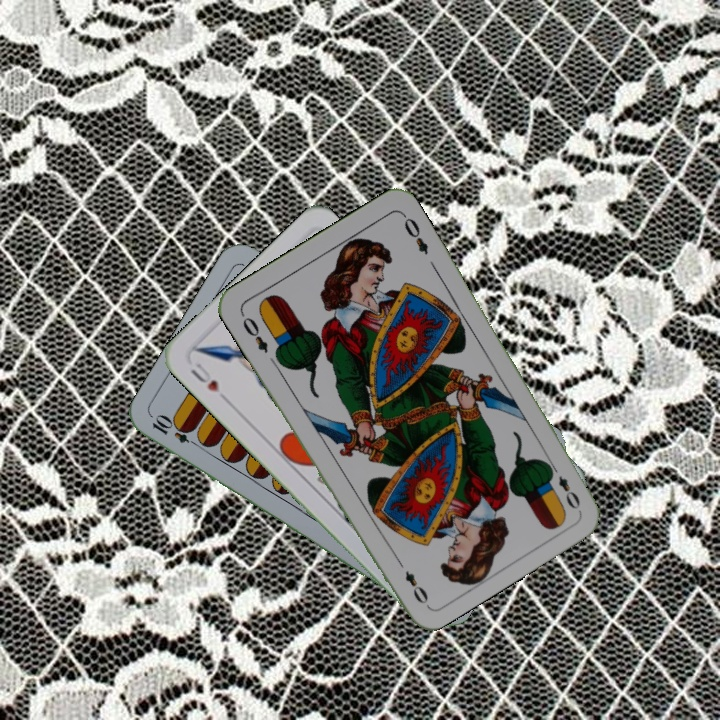E10: (148, 412, 204, 450)
EO: (544, 459, 583, 512), (238, 312, 271, 356)
HU: (186, 358, 230, 404)
